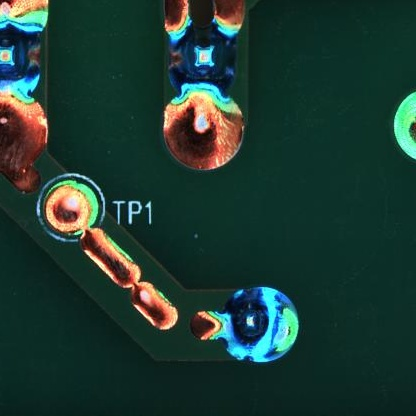spot: (224, 285, 299, 365), (164, 26, 241, 92), (1, 25, 42, 82)
